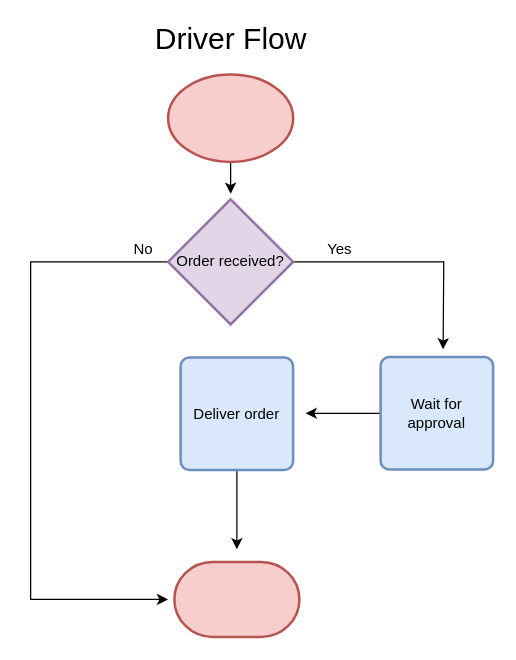
This 516x660 diagram has some shape labels left out. The shapes that lost their labels are listed below. From the top down, each one's centre as x and y in pixels, then its label:
At (230,117): "Start".
At (236,599): "End".
